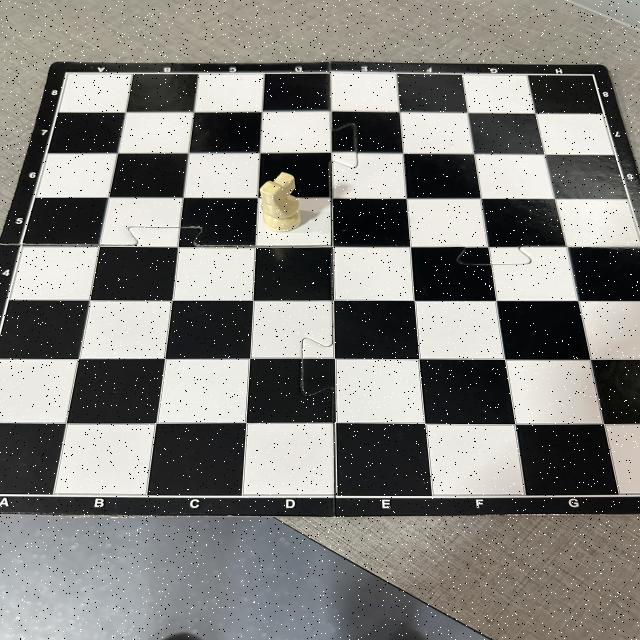White-Knight: (260, 172, 302, 232)
